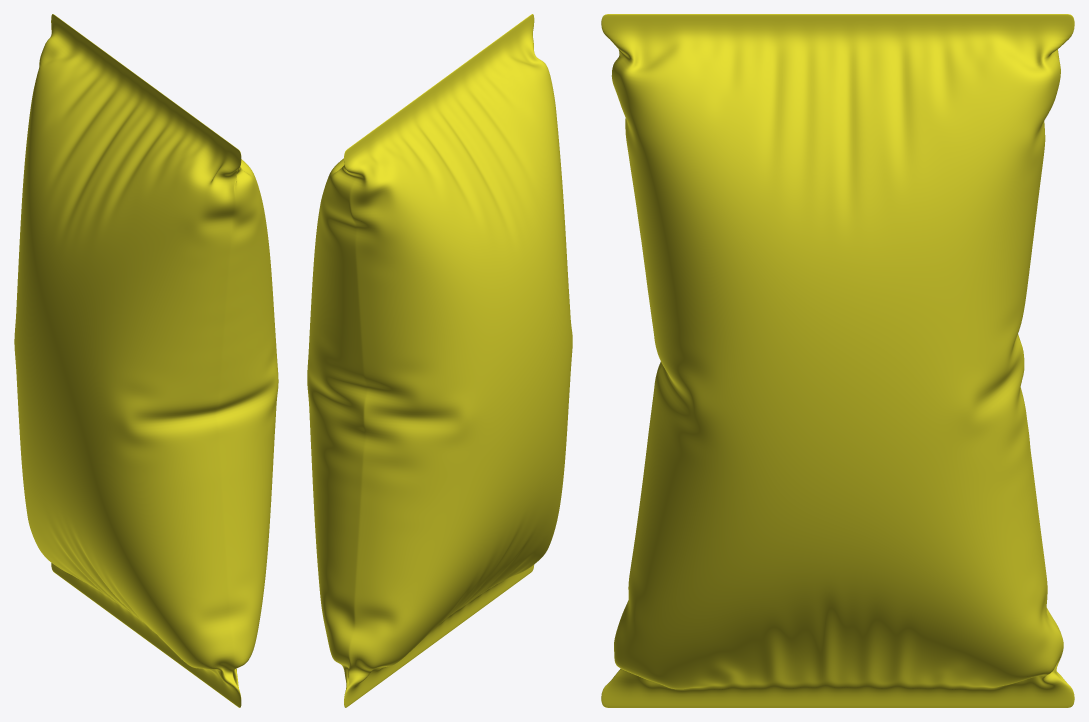
The model's file is nonRecyclable5.glb.
3 renders of one model, left to right at view 1: azimuth 30°, elevation 25°; view 2: azimuth 150°, elevation 25°; view 3: azimuth 270°, elevation 25°, orthographic. The views are drawn at different scales.
Visible parts, largest first — view 1: Plane; view 2: Plane; view 3: Plane.
Part boxes in pixels (x1,y1,x2,y2): Plane: [14, 14, 278, 707]; Plane: [307, 14, 572, 707]; Plane: [601, 14, 1074, 707].
Bounding box in the file's own units: 1.43 × 3.89 × 2.4.
